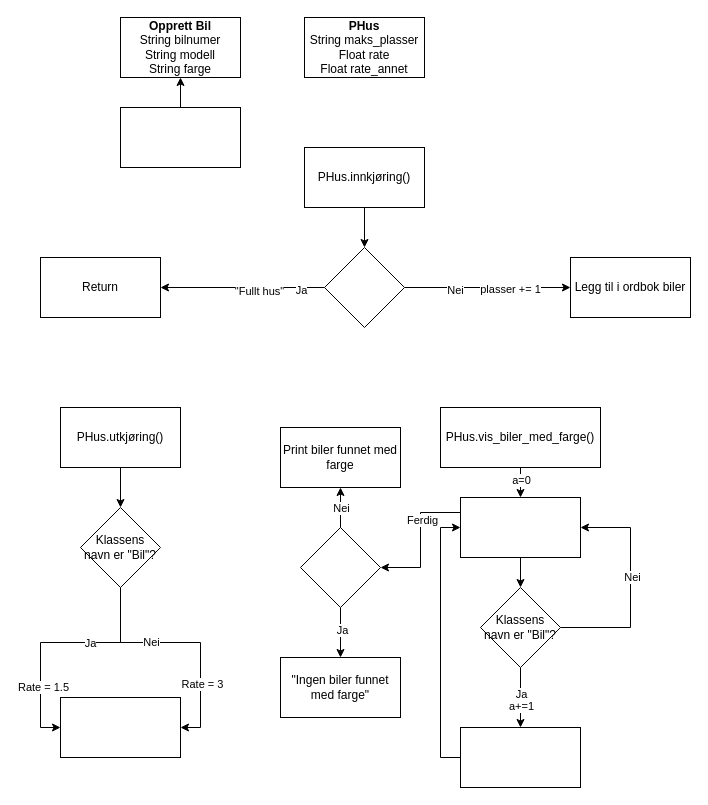
Image size: 708x805. Some labels were removed from this diagram. The shapes that lost their labels are listed below. From the top down, each one's centre as x and y in pixels, then its label:
the point at 180,137: Opprett Annet super(Bil) String type
the point at 364,287: plasser >= maks_plasser
the point at 520,527: For bil i biler
the point at 340,567: a == 0
the point at 120,727: tid i sekund // 60 * rate
the point at 520,757: Print bilnummer og modell
